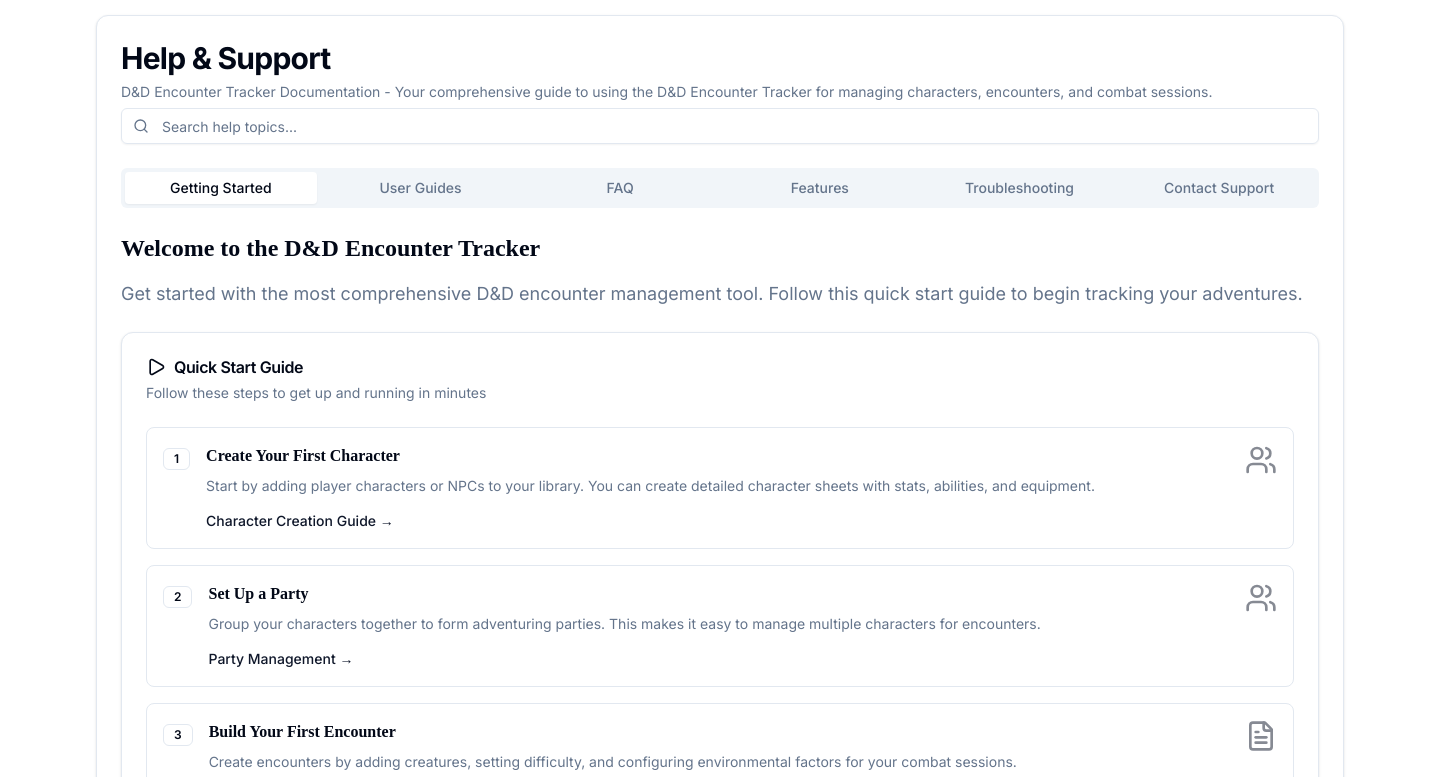
Test: HelpPage Component › Contact Support Section › displays community resources
Click the tab "Contact Support" at coordinates (1219, 188), box [1123,172,1315,204]
(page scrolled)
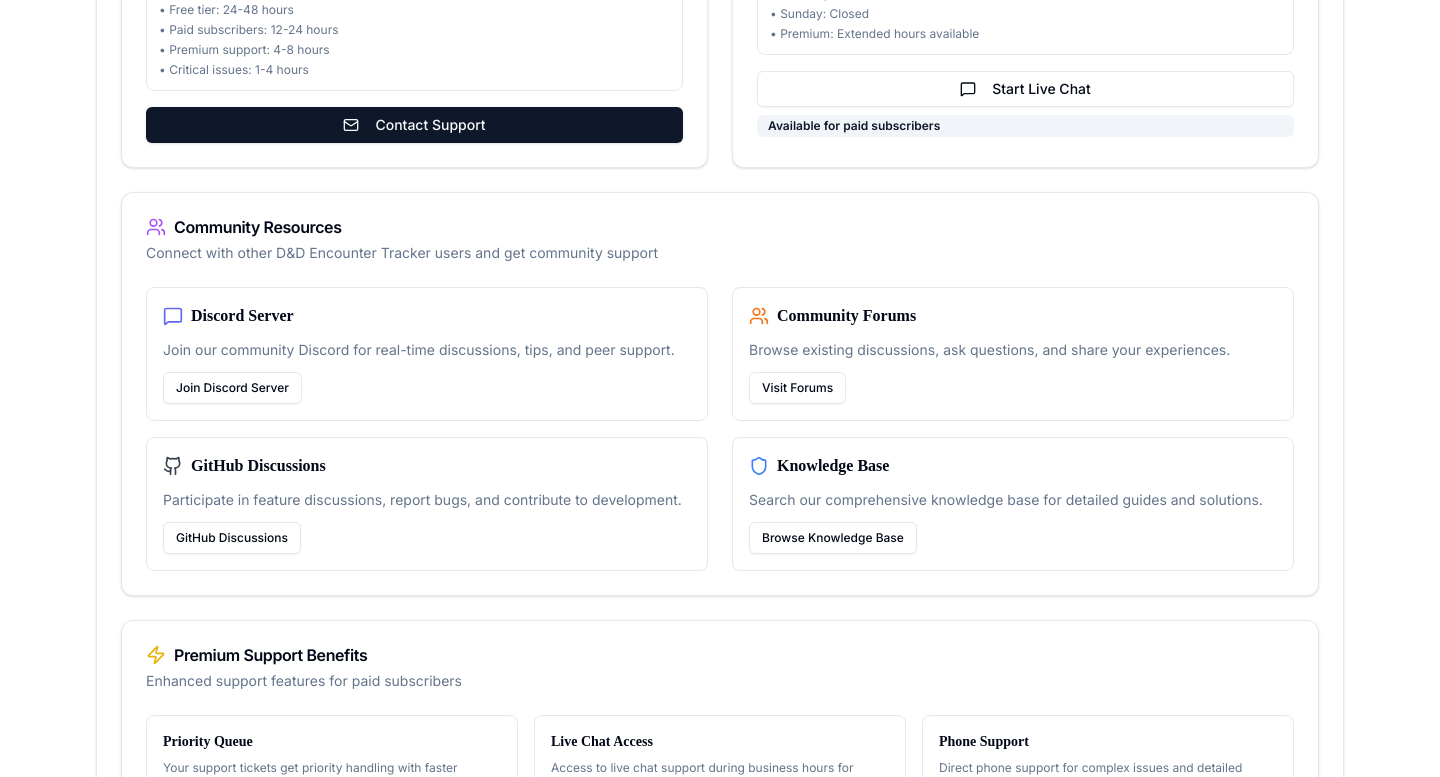
Expected: the text "Community Resources" is shown, [146,217,342,237]
Expected: the link "GitHub Discussions" is shown, [163,526,301,546]
Expected: the link "Join Discord Server" is shown, [163,376,302,396]
